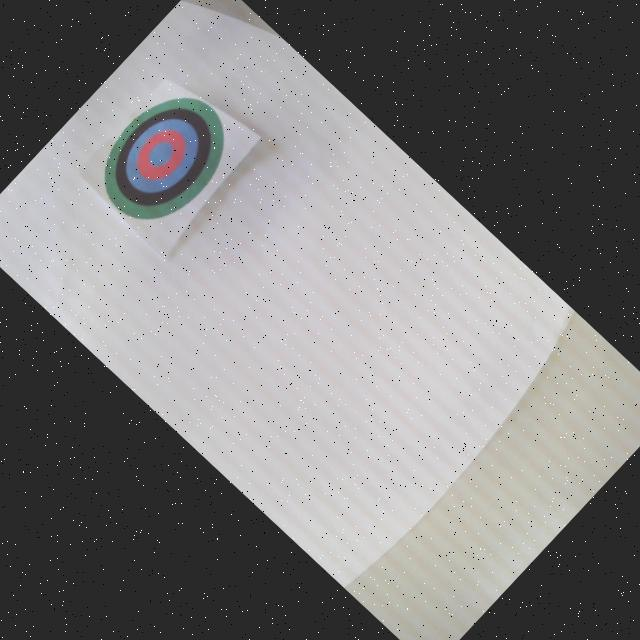COGNITIVE: (80, 74, 250, 245)
